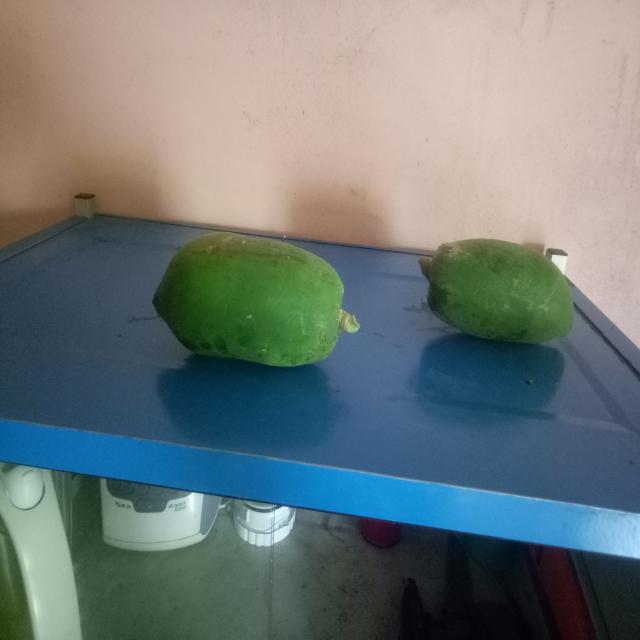Pepaya unrippen: (139, 216, 364, 378), (418, 228, 573, 349)
